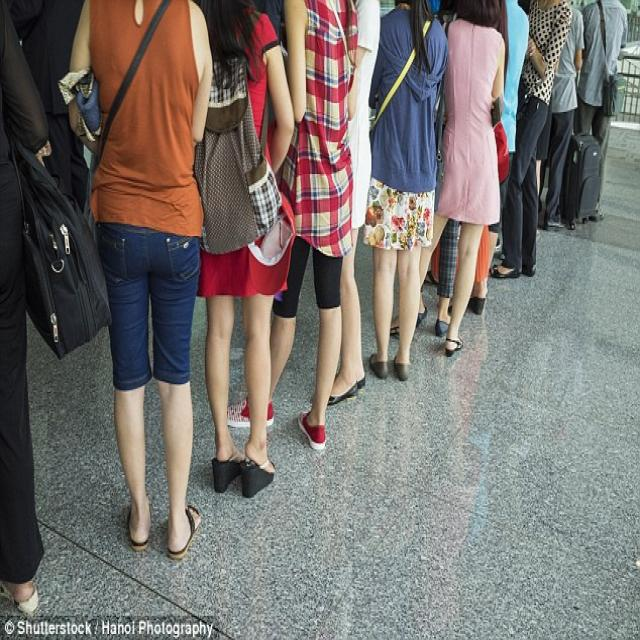body: (62, 0, 214, 563), (220, 0, 362, 457), (188, 0, 295, 495), (388, 0, 508, 360), (0, 0, 61, 613), (364, 0, 450, 383), (489, 0, 571, 281), (325, 0, 381, 407), (484, 0, 531, 300), (571, 0, 628, 222), (538, 0, 587, 230), (426, 206, 501, 313), (630, 0, 639, 38), (570, 0, 584, 6)
